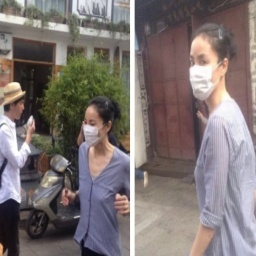correctlyWear: (188, 46, 229, 102), (82, 111, 112, 148)
noWear: (8, 94, 26, 120)
